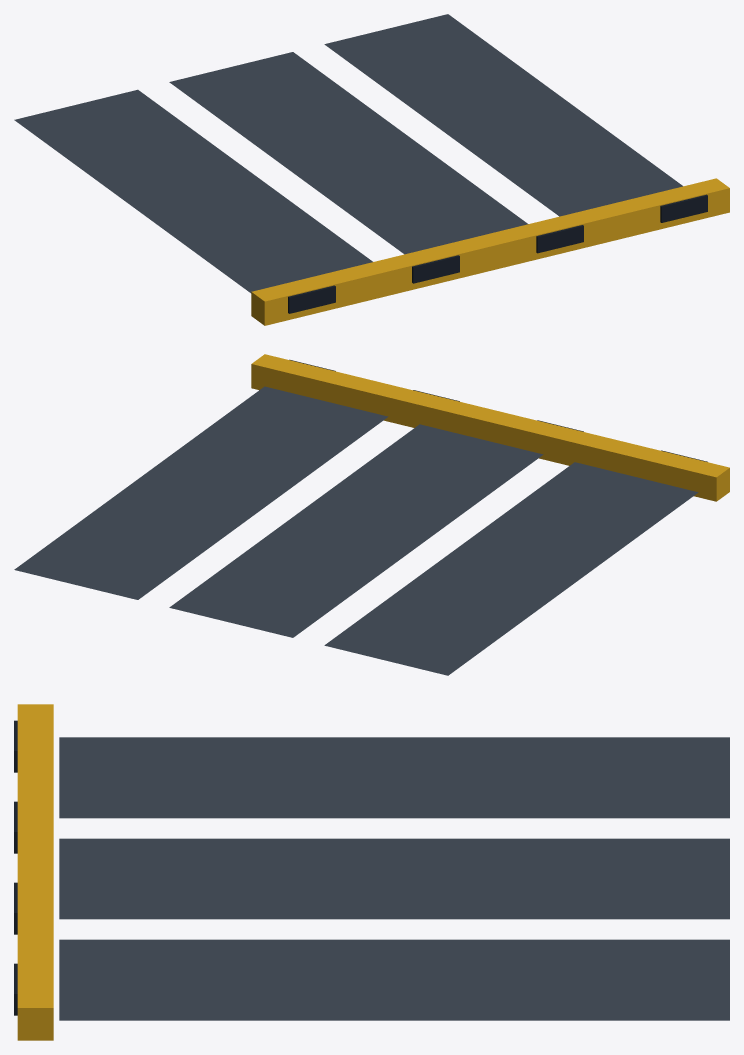
The model's file is yard-dock-plate-body.glb.
3 renders of one model, top to bottom at view 1: azimuth 30°, elevation 25°; view 2: azimuth 150°, elevation 25°; view 3: azimuth 270°, elevation 25°, orthographic. The views are drawn at different scales.
Parts seen in each view (by area): view 1: Yard-dock-plate-bodyBody; view 2: Yard-dock-plate-bodyBody; view 3: Yard-dock-plate-bodyBody.
Part boxes in pixels (<box>): Yard-dock-plate-bodyBody: <box>14,14,729,325</box>; Yard-dock-plate-bodyBody: <box>14,354,729,675</box>; Yard-dock-plate-bodyBody: <box>14,704,729,1040</box>.
Bounding box in the file's own units: 3 × 0.15 × 2.99.
